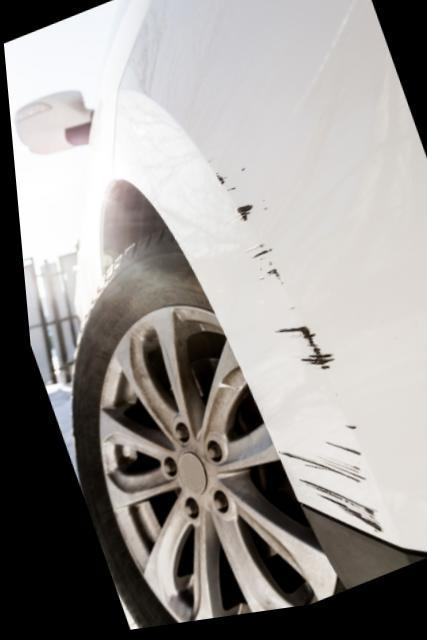scratch: (203, 165, 330, 379), (268, 429, 372, 544)
